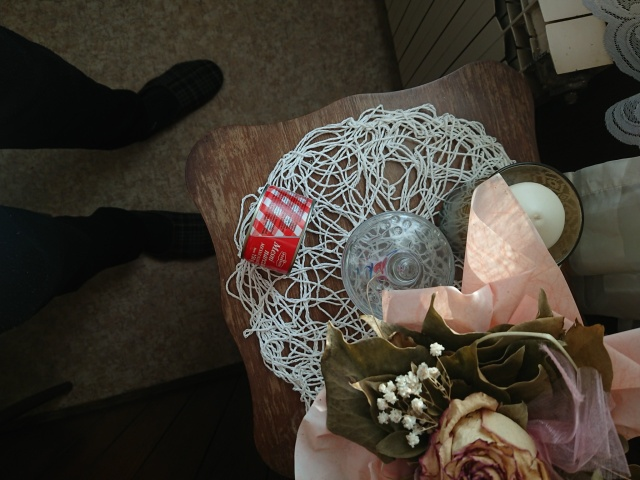Podravka Luncheon Meat 150g: (240, 182, 320, 280)
